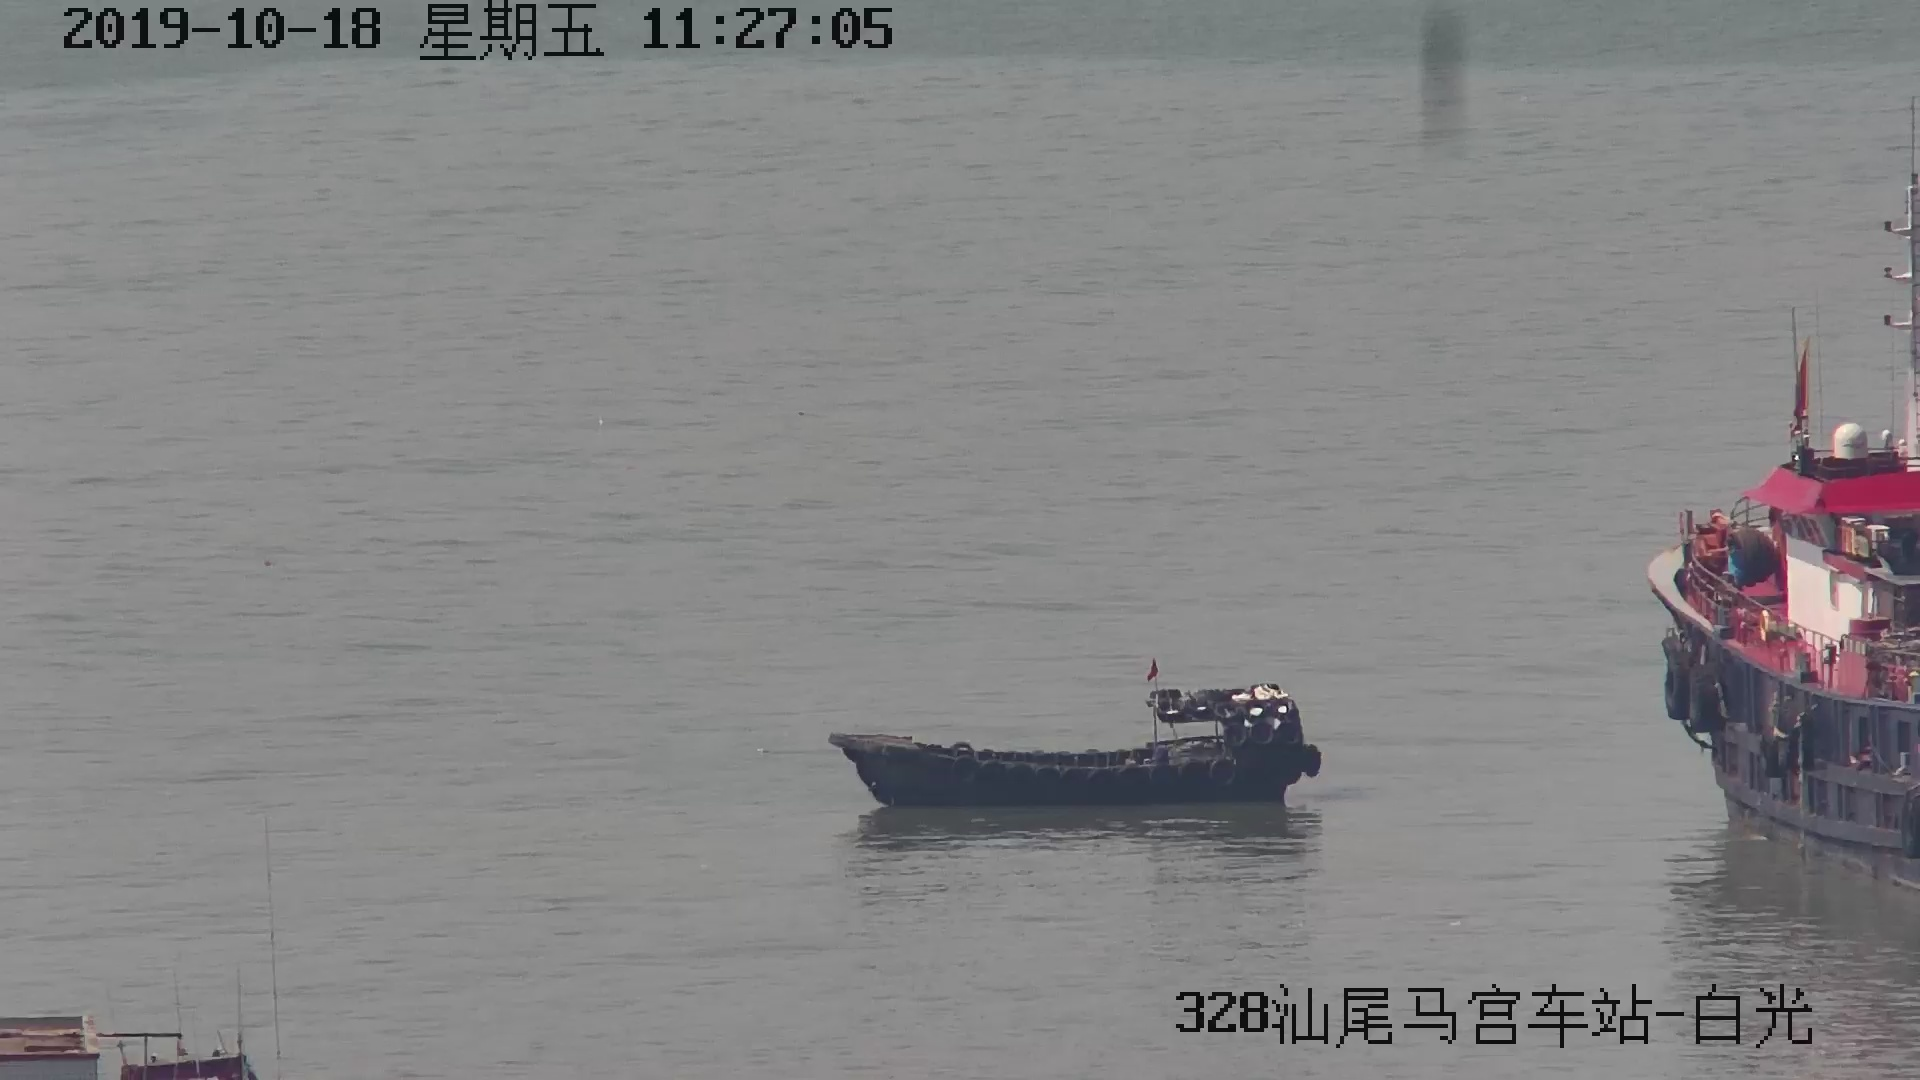ship: (1634, 290, 1920, 873), (829, 665, 1327, 814)
